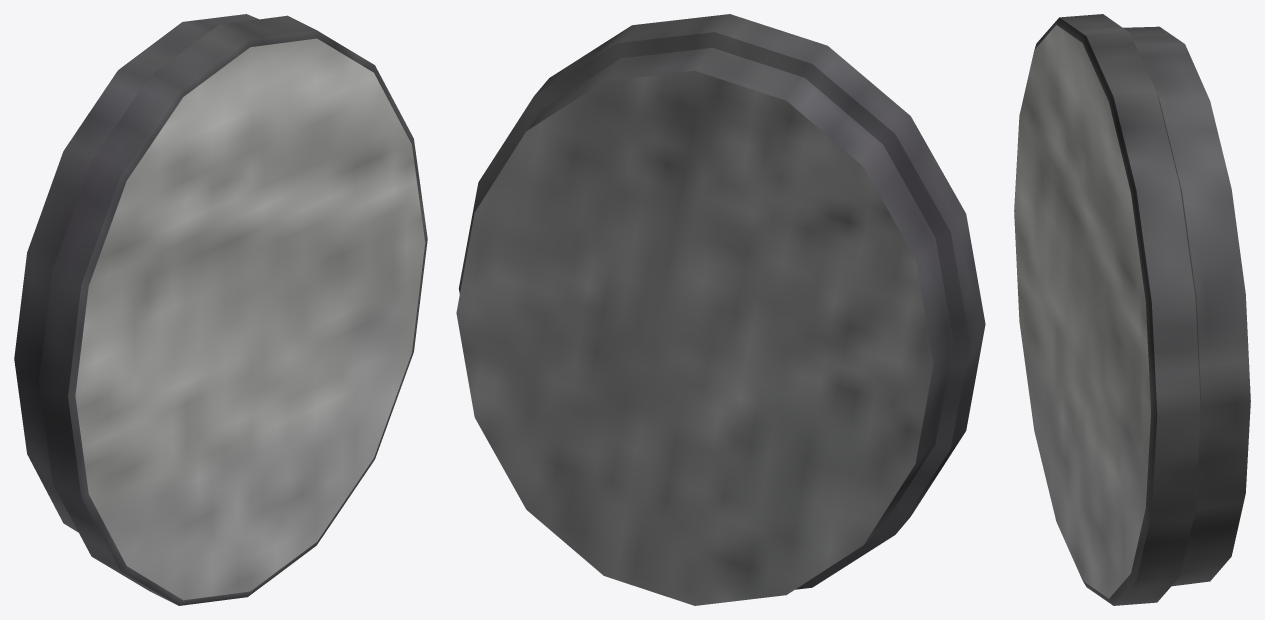
The model's file is LlantaIzq1.obj.
The picture shows the model from 3 angles, left to right: view 1: azimuth 30°, elevation 25°; view 2: azimuth 150°, elevation 25°; view 3: azimuth 270°, elevation 25°; orthographic projection. The views are drawn at different scales.
Visible parts, largest first — view 1: LlantaIzq1; view 2: LlantaIzq1; view 3: LlantaIzq1.
Part boxes in pixels (x1,y1,x2,y2): LlantaIzq1: (14,14,427,605); LlantaIzq1: (456,14,985,605); LlantaIzq1: (1014,14,1250,605).
Bounding box in the file's own units: 0.219 × 0.2663 × 0.1037.
1 material, 1 textured.
